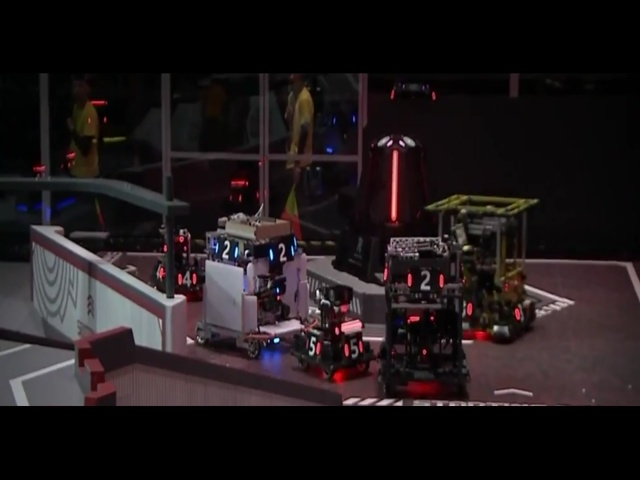plate: (272, 311, 323, 347), (260, 202, 304, 226), (132, 297, 161, 324), (378, 353, 407, 379), (347, 307, 362, 337), (256, 134, 277, 152)
